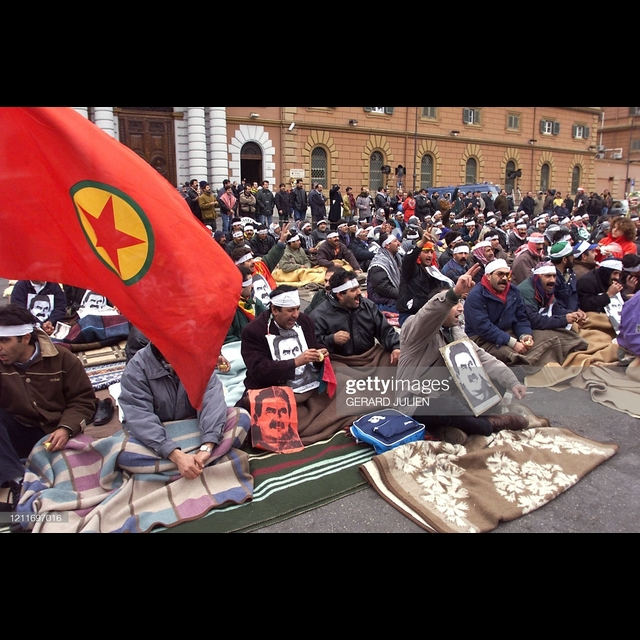PKK: (65, 177, 158, 286)
